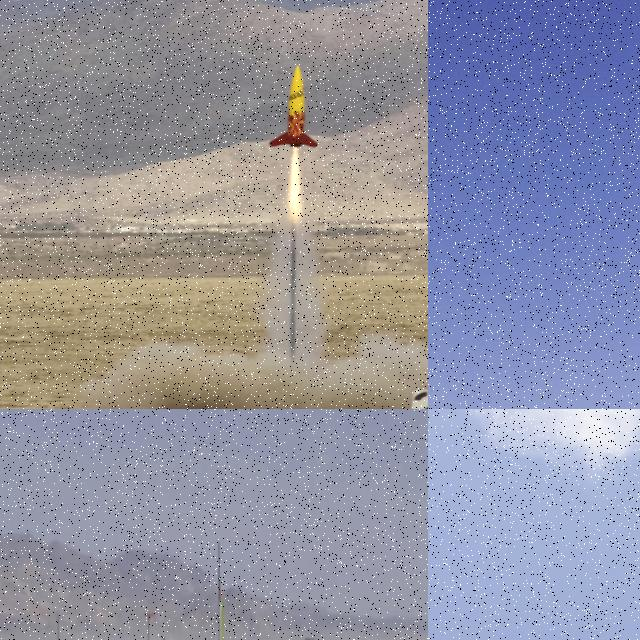Rocket: (268, 64, 319, 148), (216, 576, 223, 640)
